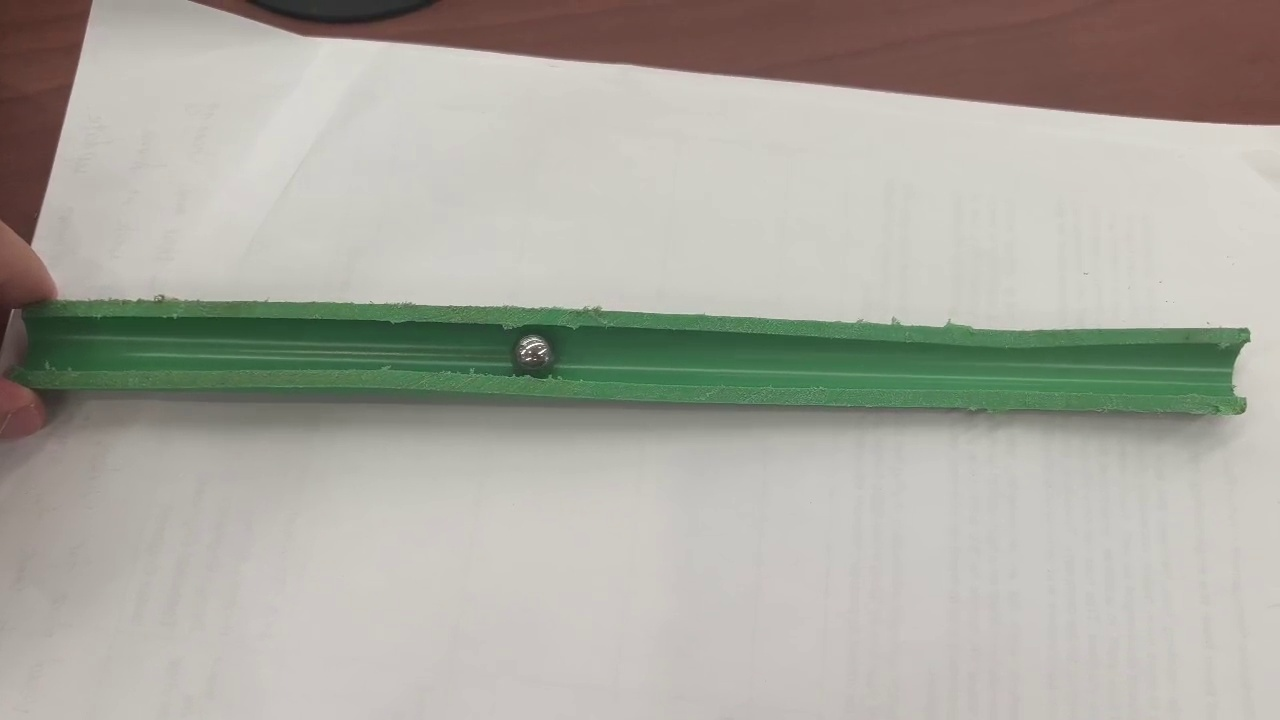ball: (516, 335, 552, 366)
